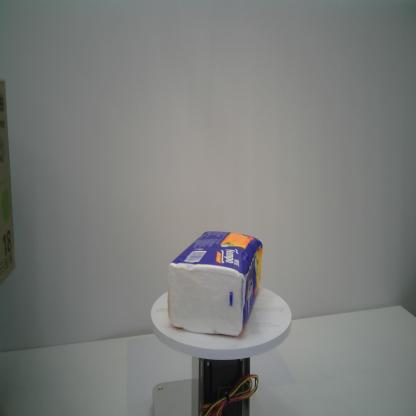Tissue: (167, 230, 264, 337)
